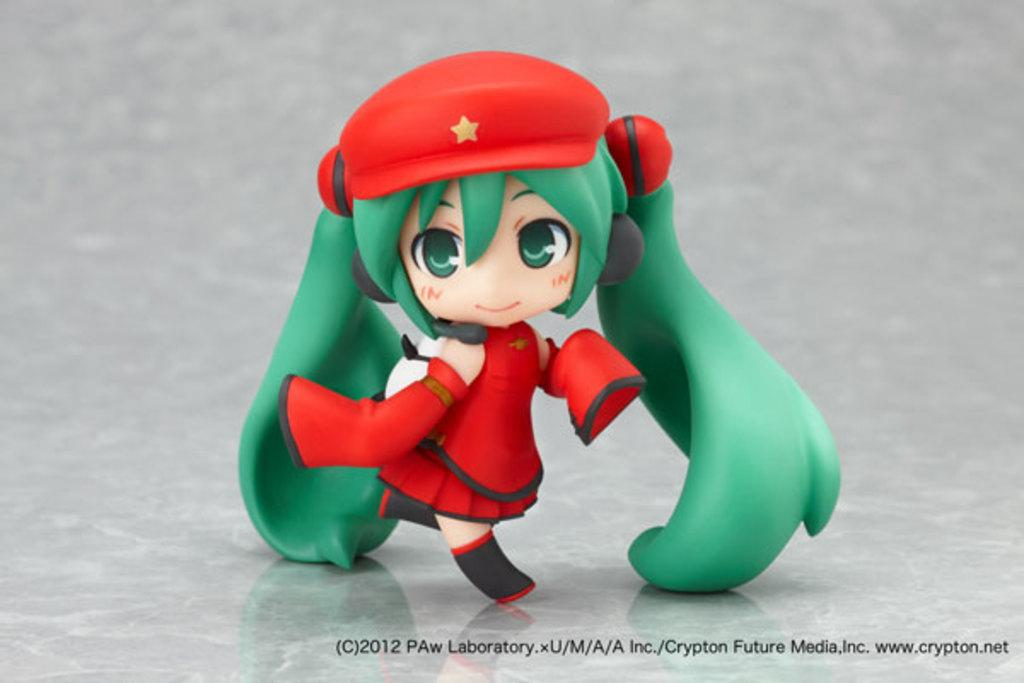Hat: (337, 50, 605, 202)
